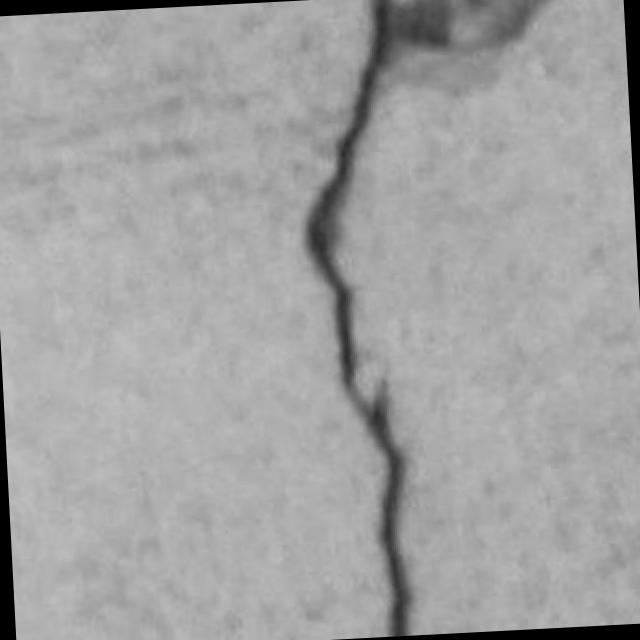crack: (306, 0, 410, 636), (388, 0, 554, 90)
